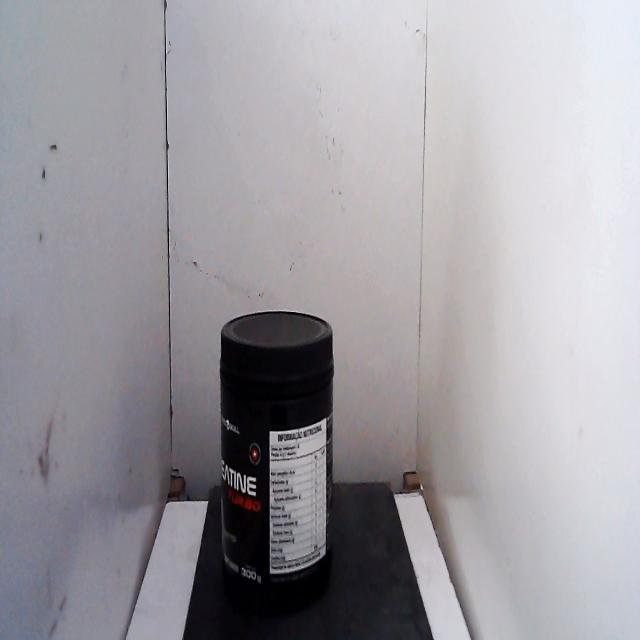plastico: (207, 289, 347, 615)
